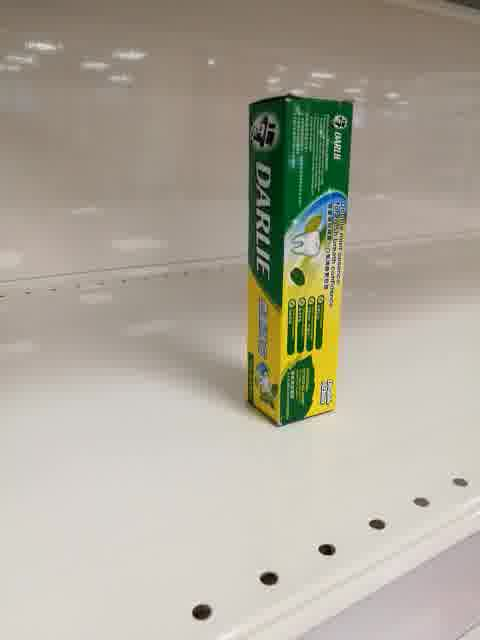toothpaste: (245, 95, 353, 427)
